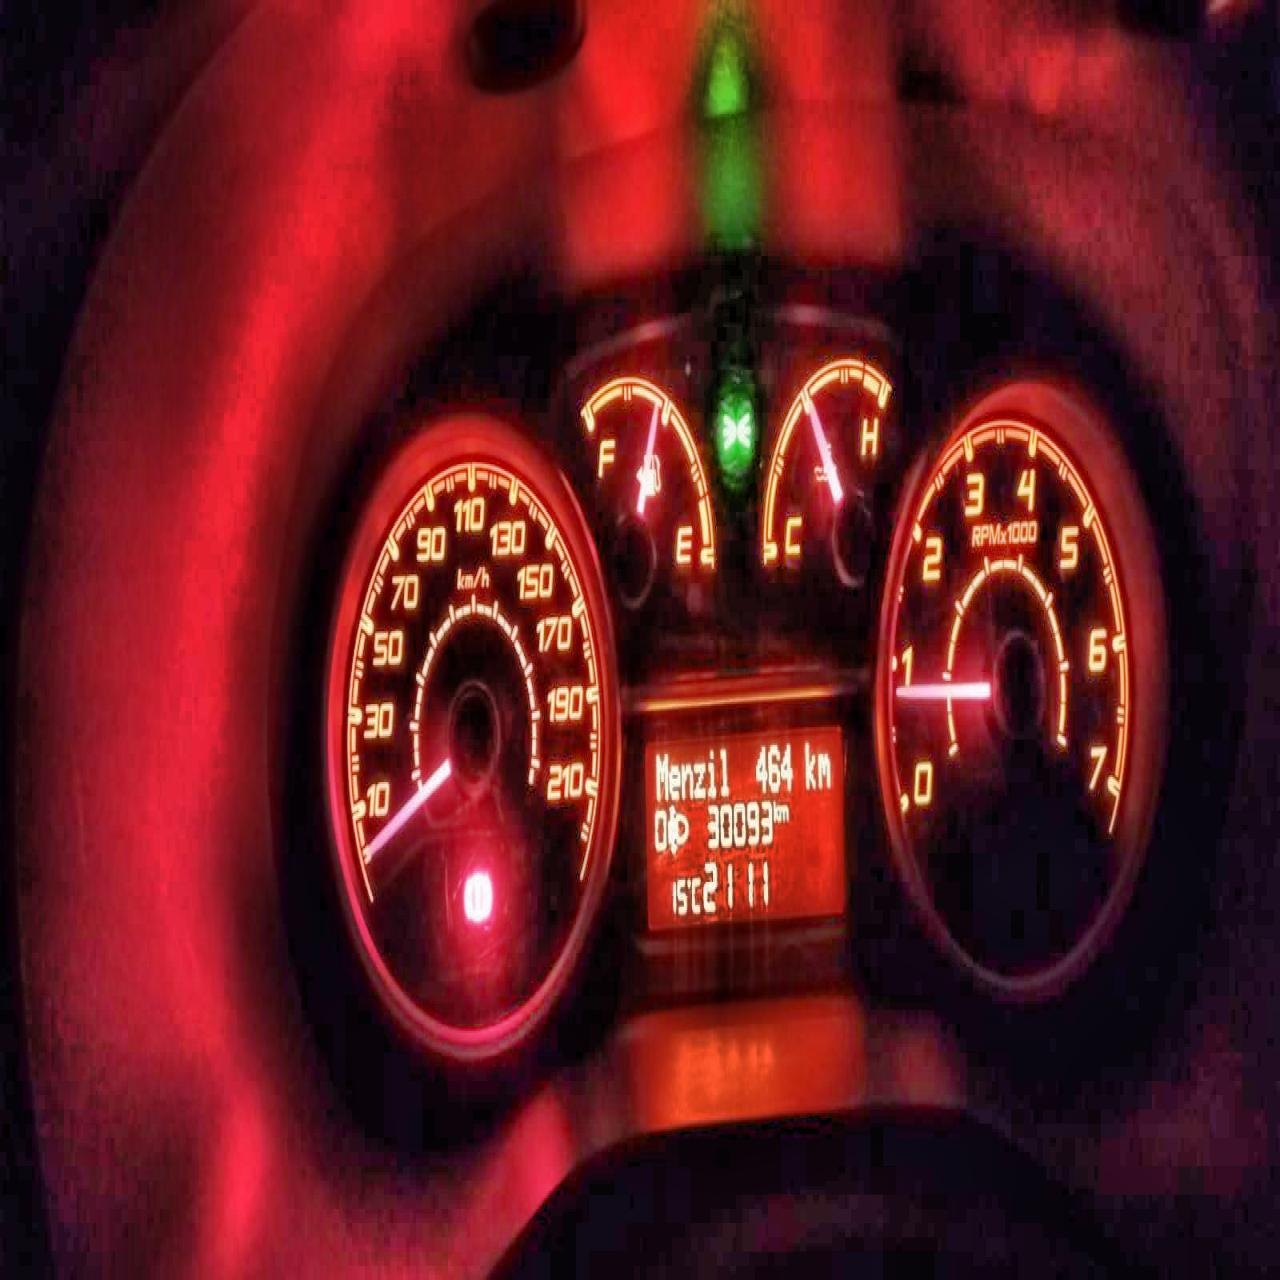0: (731, 799, 745, 846), (719, 799, 731, 847), (653, 805, 666, 851)
1: (745, 857, 755, 908), (727, 858, 734, 908), (762, 857, 769, 907), (670, 878, 676, 914)
2: (702, 858, 716, 913)
3: (707, 799, 719, 850), (761, 798, 772, 844)
4: (779, 740, 794, 791), (755, 741, 767, 792)
5: (676, 874, 688, 913)
6: (767, 740, 779, 792)
9: (747, 798, 760, 846)
X: (654, 750, 668, 802), (803, 737, 816, 789), (817, 750, 832, 790), (680, 761, 694, 799), (707, 744, 717, 796), (719, 744, 729, 796), (693, 760, 706, 799), (668, 761, 680, 802), (690, 873, 701, 914), (778, 802, 789, 822), (771, 799, 779, 822)
odometer: (640, 720, 847, 940)
